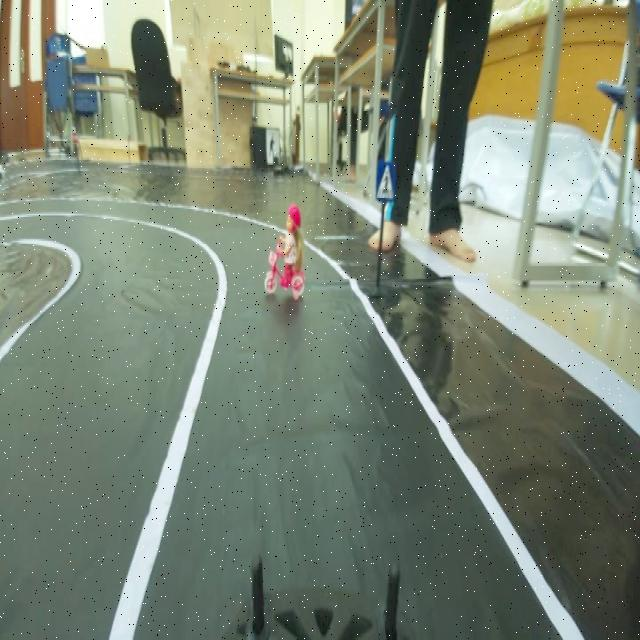crosswalk: (371, 153, 399, 211)
pedestrian: (261, 205, 311, 300)
